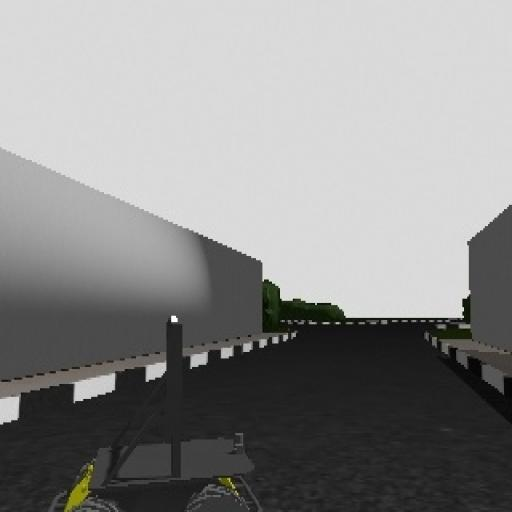huskya200: (44, 299, 268, 512)
